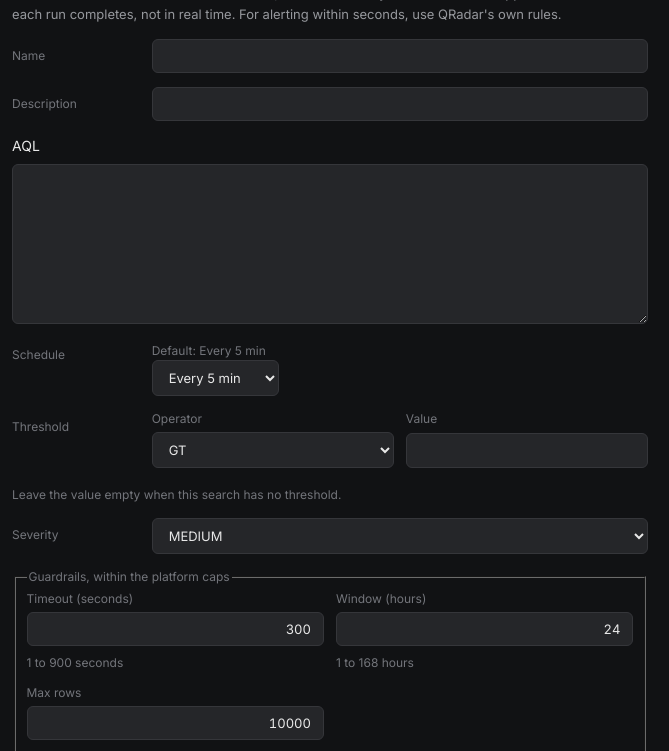
Test: the cron floor refusal in the editor › keeps the English sentence in English
The width and height of the screenshot is (669, 751).
Type "Fast" into the field labelled "Name". click: (400, 56)
box: [152,39,648,73]
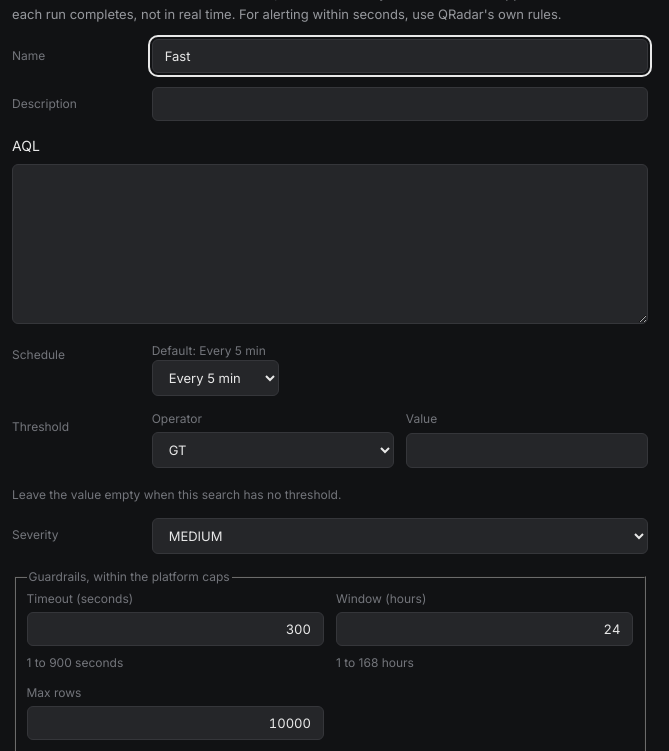
Type "SELECT 1" into the text box labelled "AQL". click: (330, 244)
box: [12,164,648,324]
(page scrolled)
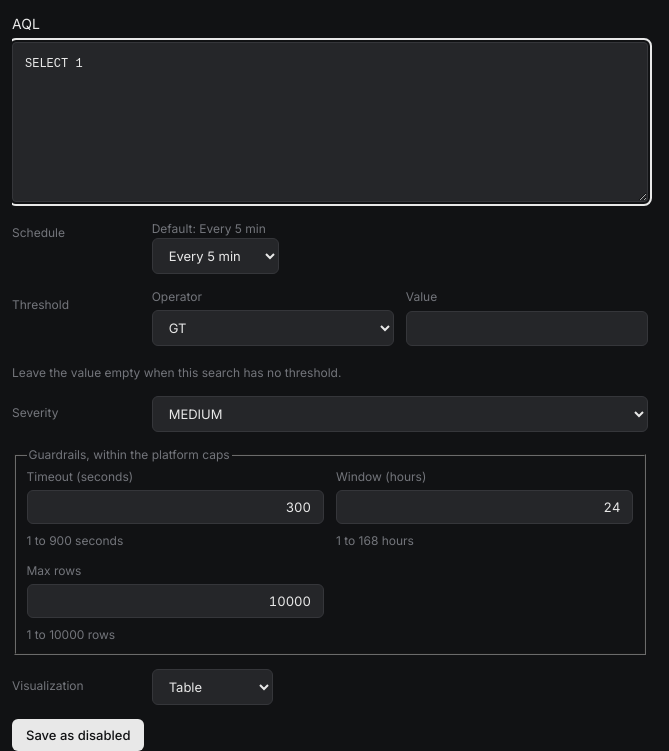
Click the button "Save as disabled". click: (78, 735)
box: [12,719,144,750]
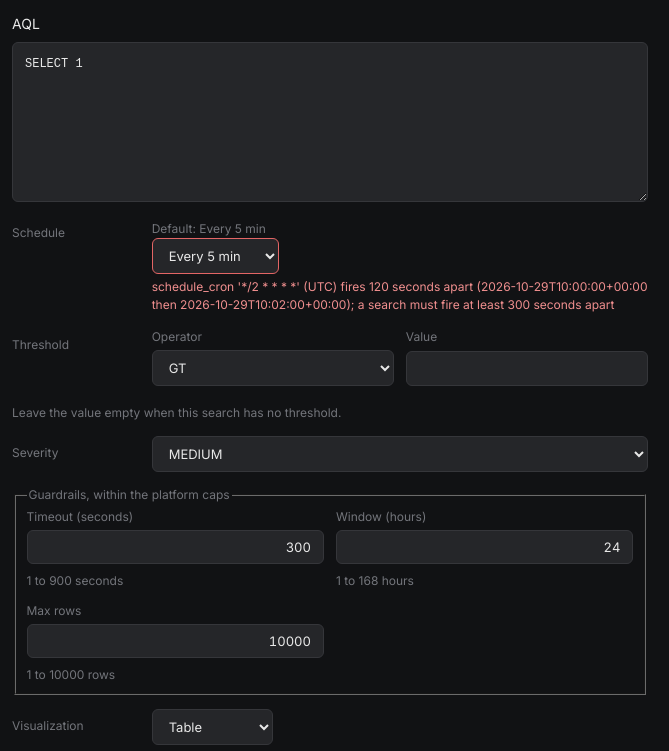
expect the text "schedule_cron '*/2 * * * *' (UTC) fires 120 seconds apart (2026-10-29T10:00:00+00:00 then 2026-10-29T10:02:00+00:00); a " is shown: met, box [152,279,648,312]
